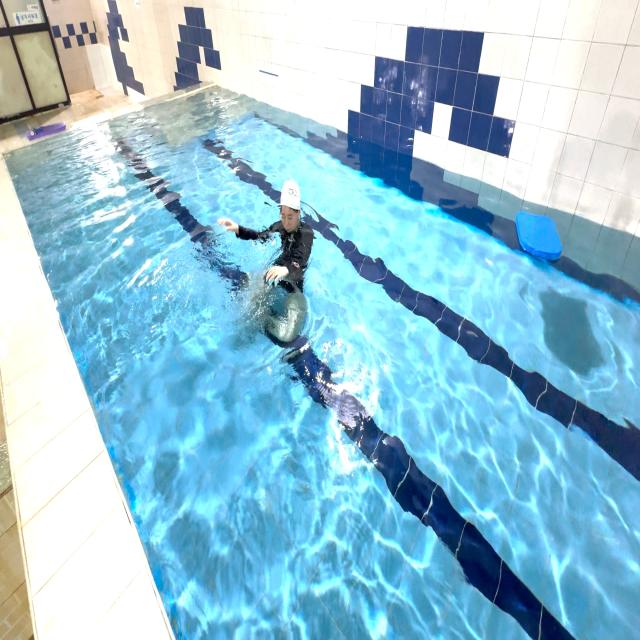Drowning: (206, 139, 346, 388)
